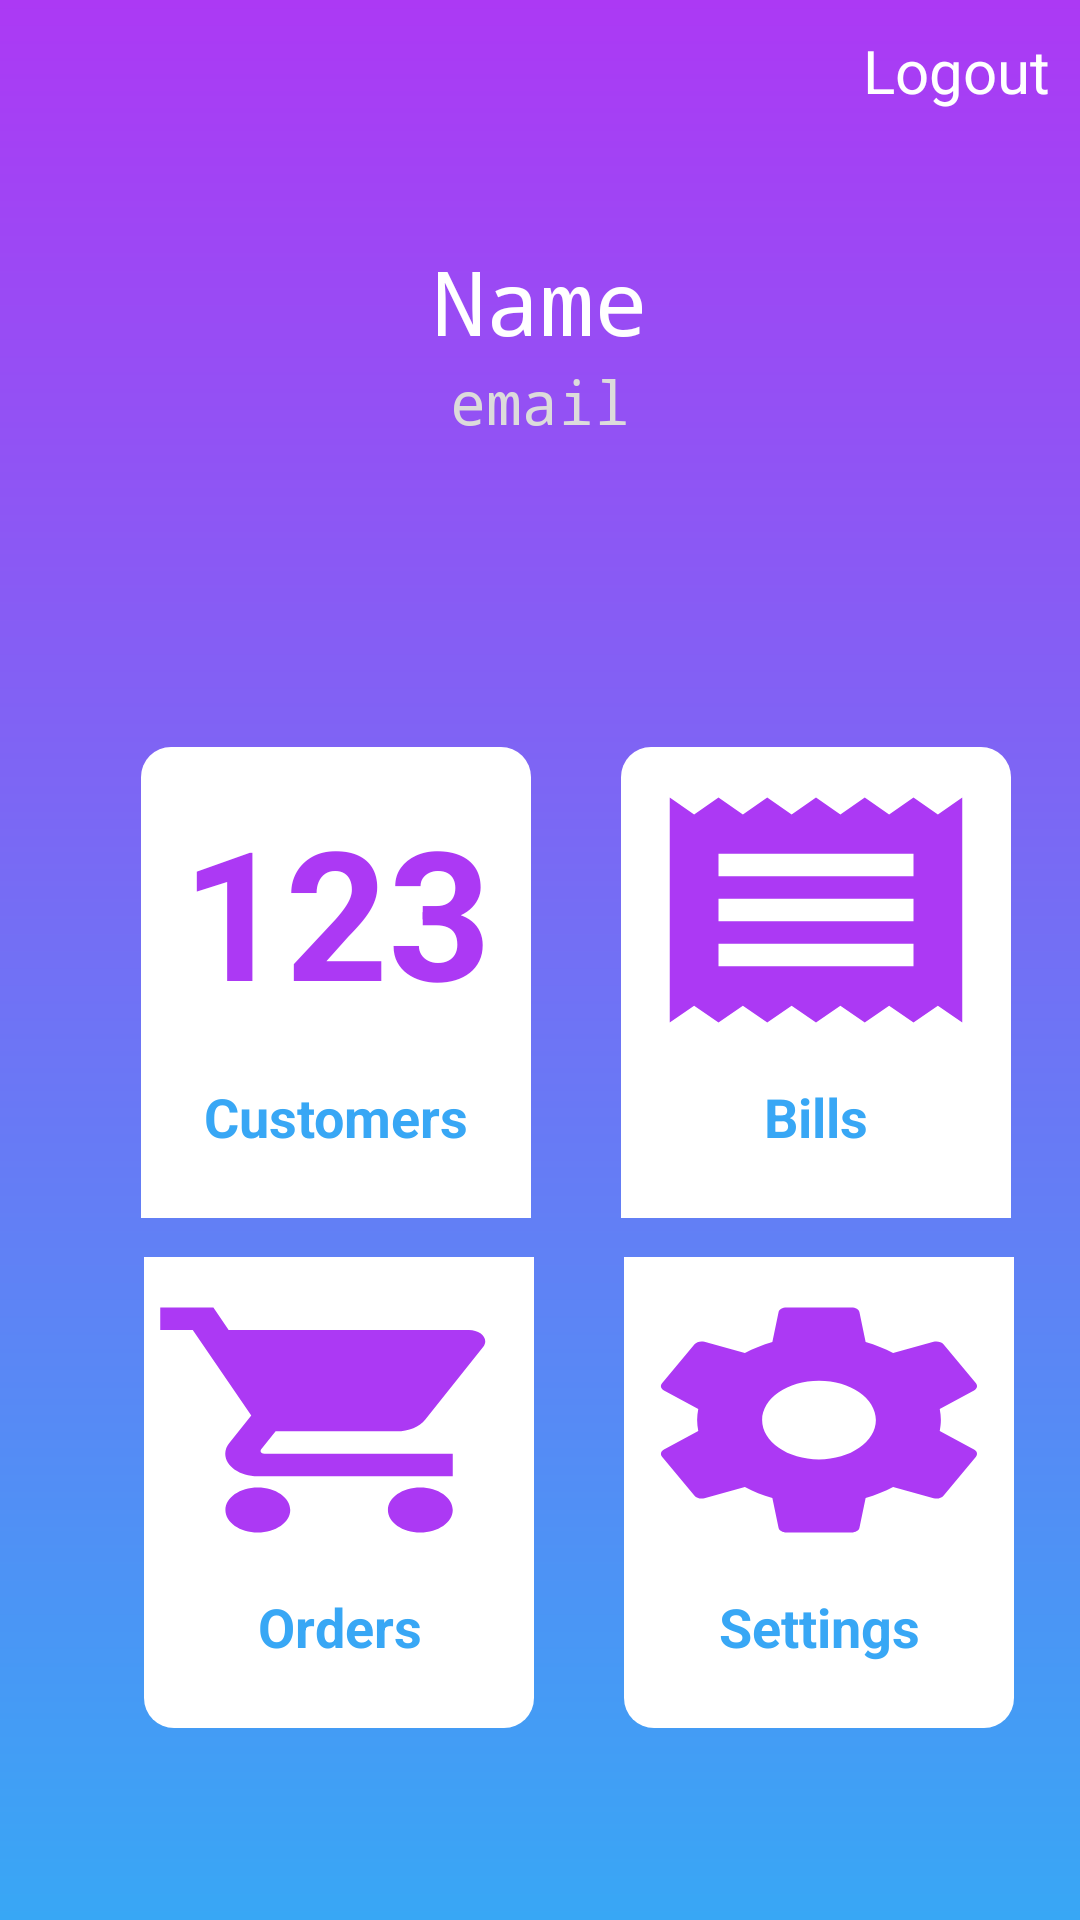

Icon bounding boxes for this 1080px×1920px phone screenshot, format bbox(x1, y1, x2, y2):
receipt: bbox(669, 797, 963, 1023)
shopping: bbox(160, 1307, 486, 1533)
